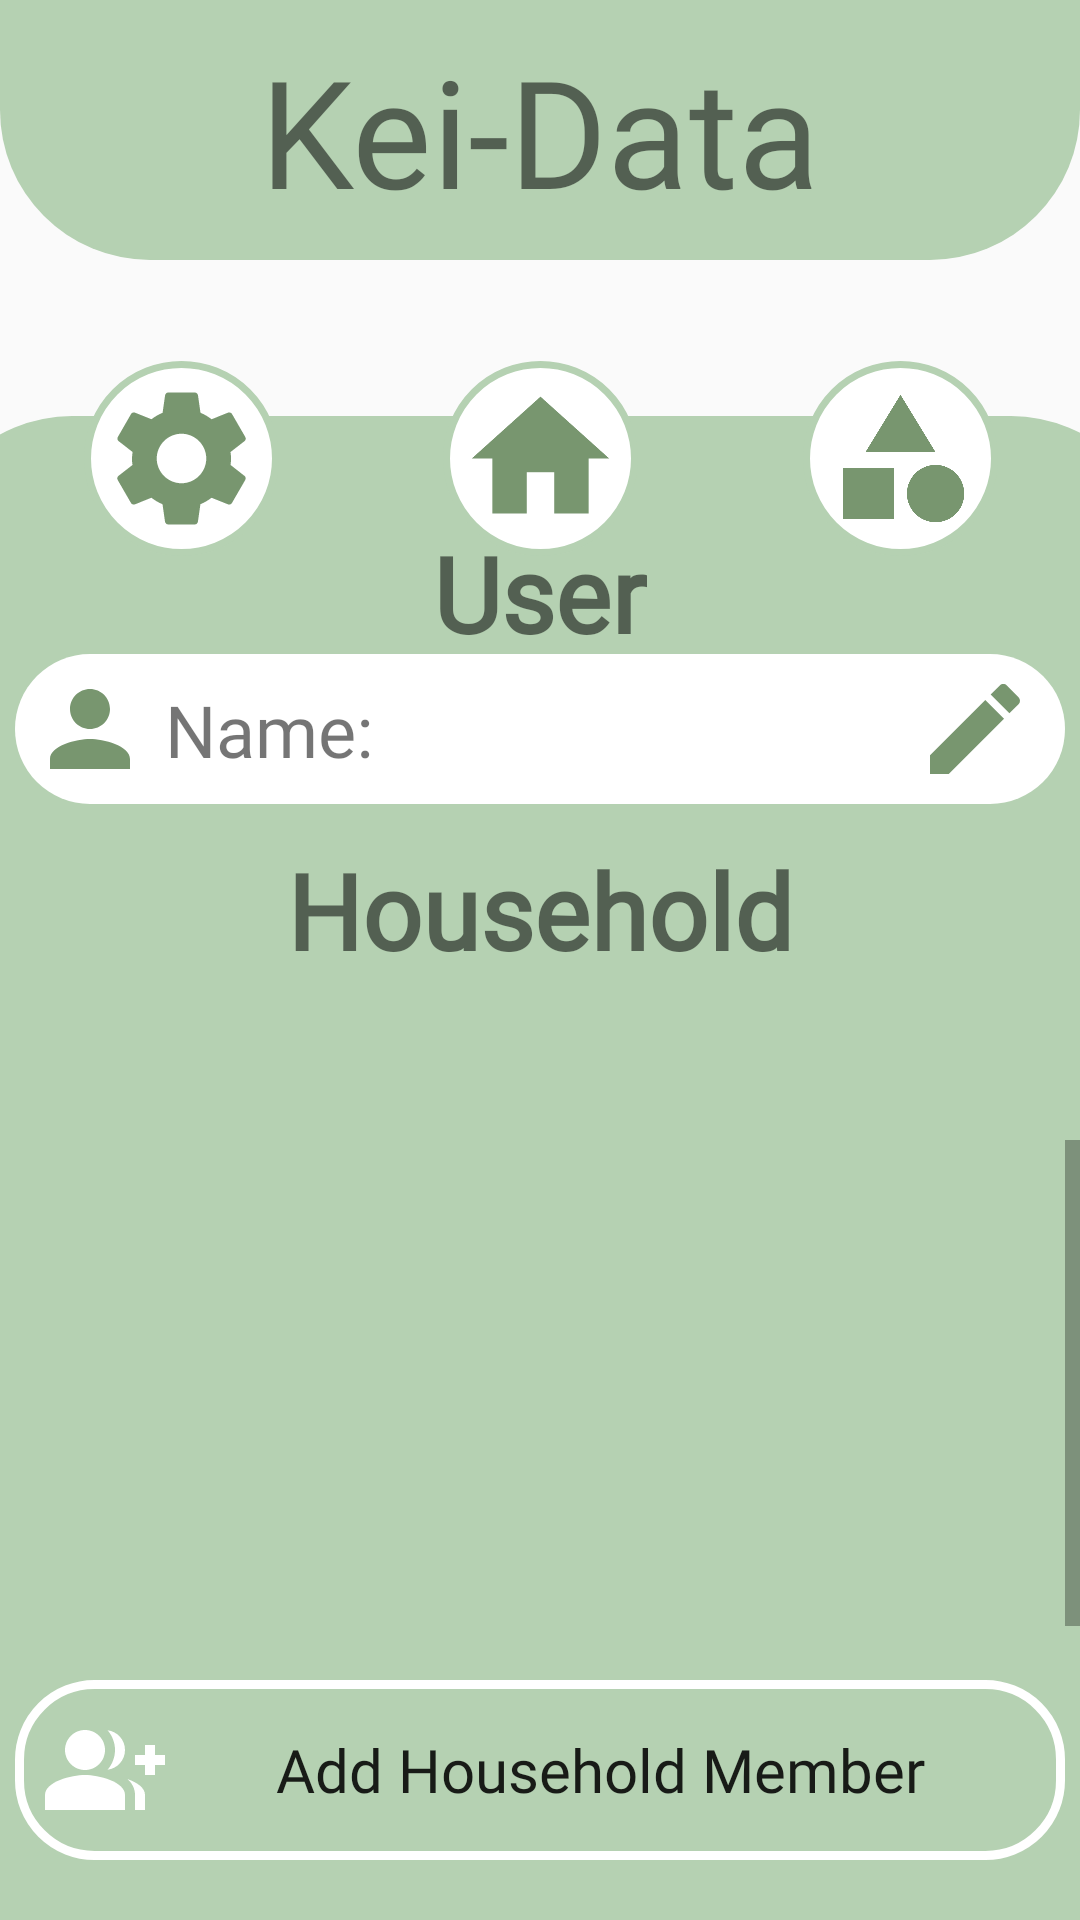

Where to tap for icons on this 1080px×1920px app screen, as [x,y]:
edit: [975,729]
Home: [540,458]
person: [90,729]
Settings: [181,458]
